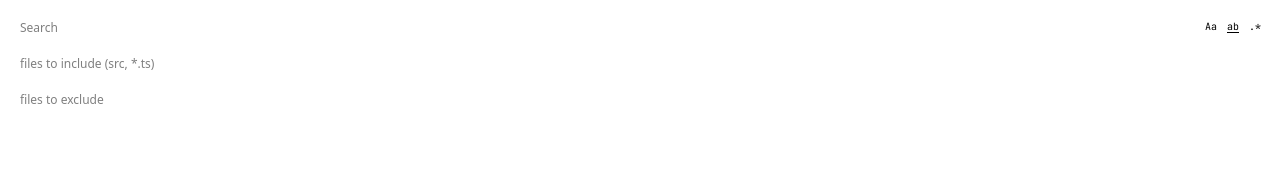
Test: D299 Phase 4 Search › says why a regex cannot run, inline, and sends nothing
Click the button named "Use regular expression": (1255, 27) [1245, 17, 1265, 37]
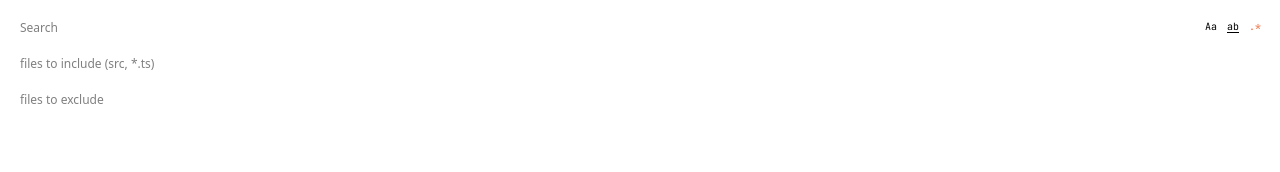
In the field labelled "Search": (640, 27) [10, 12, 1270, 42], type "(a+)+"
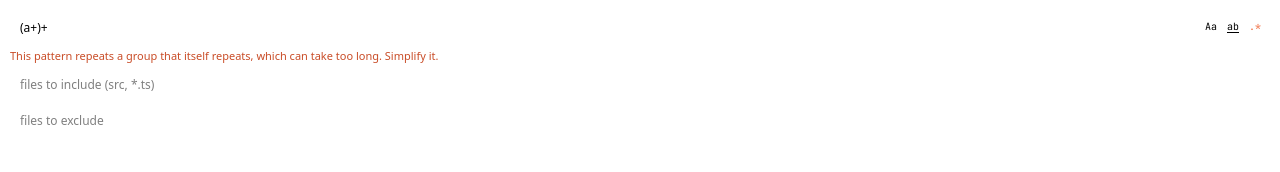
Now the message shows "too long", box [10, 48, 438, 63]
